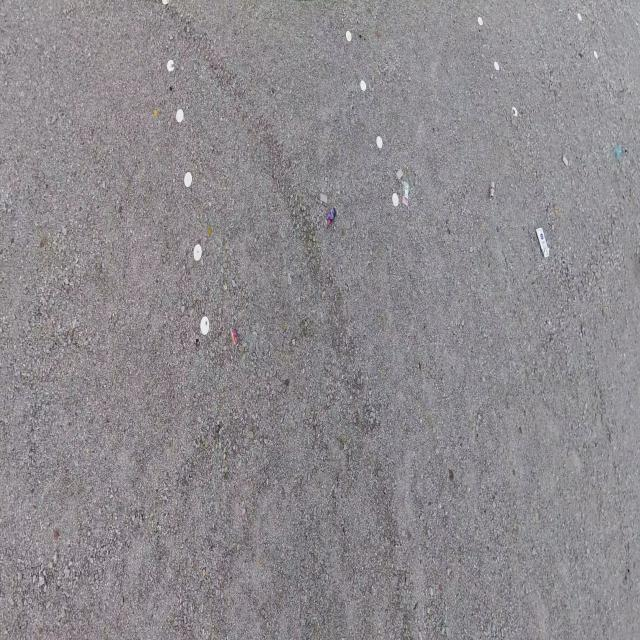rubbish: (535, 227, 549, 259), (401, 181, 409, 207), (230, 327, 239, 348), (395, 165, 404, 182), (612, 145, 623, 158), (489, 180, 496, 199), (319, 193, 328, 206), (562, 153, 569, 167)
